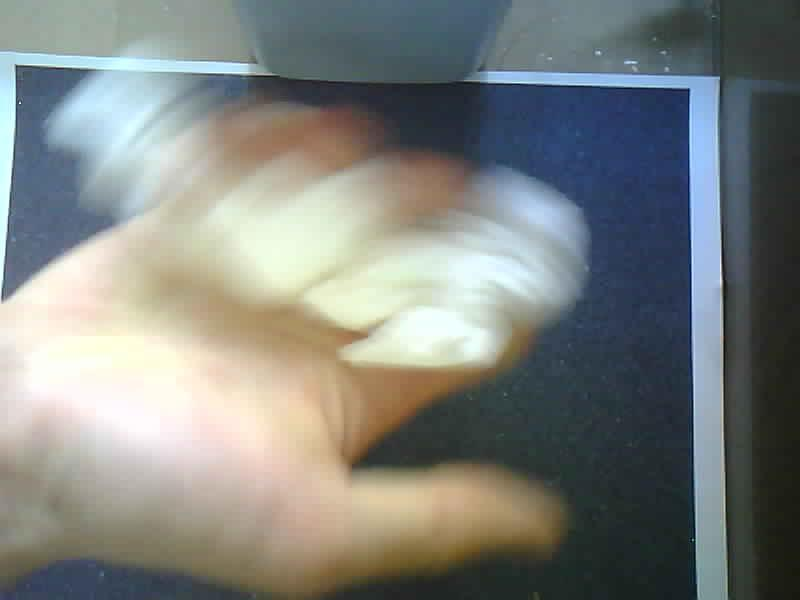paper: (50, 75, 588, 377)
